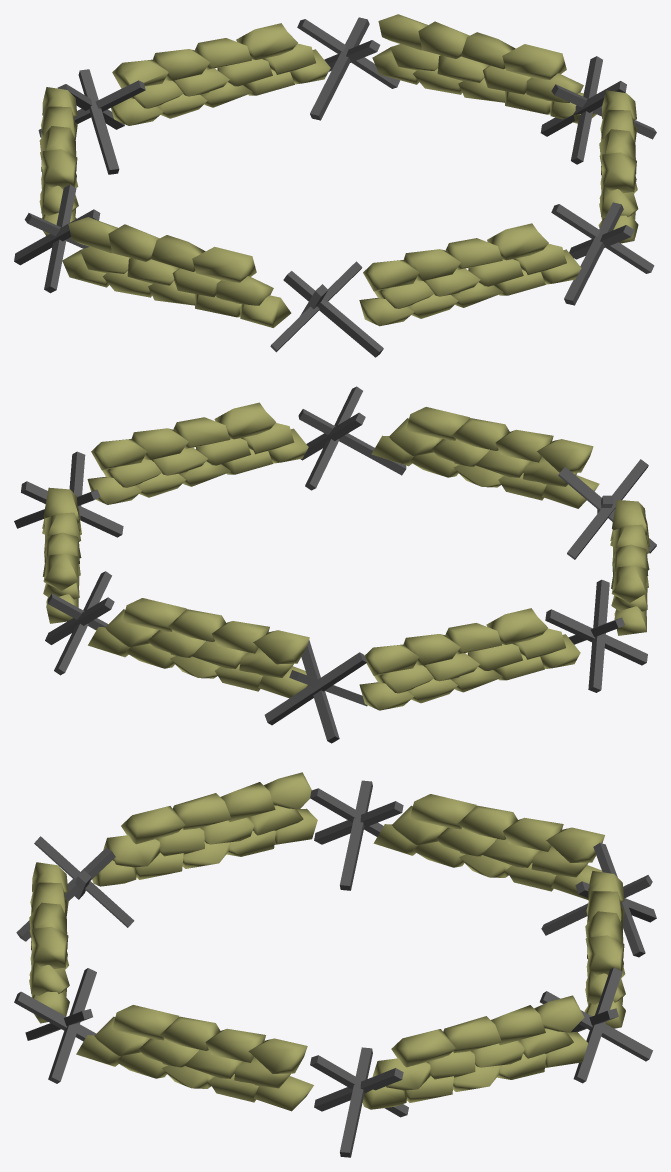
Rendered from okop.fbx.
The picture shows the model from 3 angles, top to bottom: view 1: azimuth 30°, elevation 25°; view 2: azimuth 150°, elevation 25°; view 3: azimuth 270°, elevation 25°; orthographic projection. The views are drawn at different scales.
Visible parts, largest first — view 1: polySurface17; view 2: polySurface17; view 3: polySurface17.
Part boxes in pixels (x1=…): polySurface17: x1=14, y1=14, x2=656, y2=357; polySurface17: x1=14, y1=386, x2=656, y2=743; polySurface17: x1=14, y1=772, x2=656, y2=1157.
Bounding box in the file's own units: 34.23 × 4.3 × 29.48.
